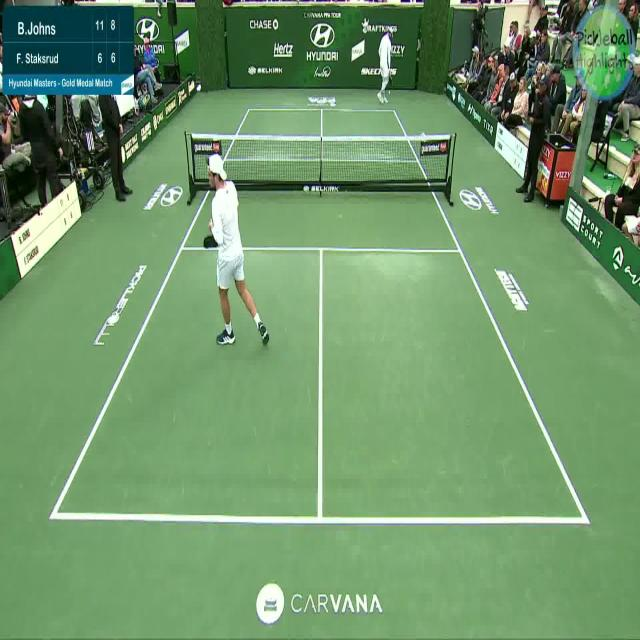ball: (387, 89, 392, 97)
